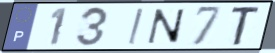1: (48, 6, 69, 48)
3: (74, 5, 109, 48)
7: (193, 4, 222, 47)
I: (126, 7, 146, 46)
N: (146, 8, 187, 45)
T: (229, 4, 264, 47)
